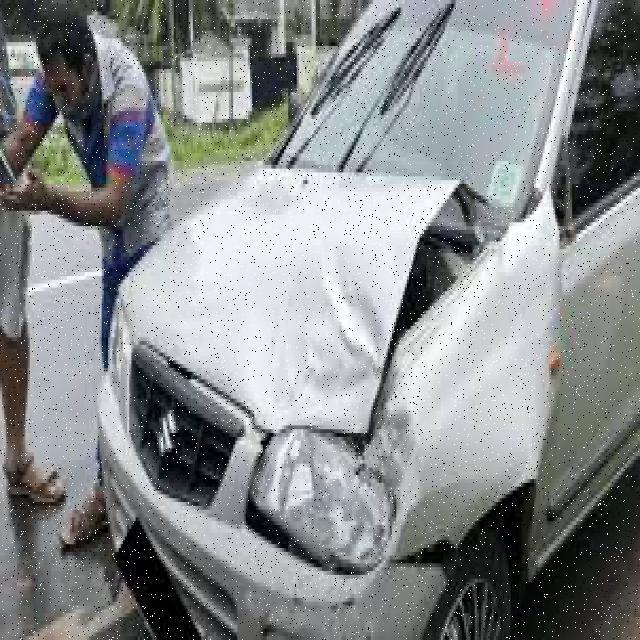Headlight-Damage: (244, 422, 398, 578)
bonnet-dent: (125, 171, 447, 412)
fender-dent: (379, 302, 547, 564)
front-bumper-dent: (102, 544, 404, 636)
